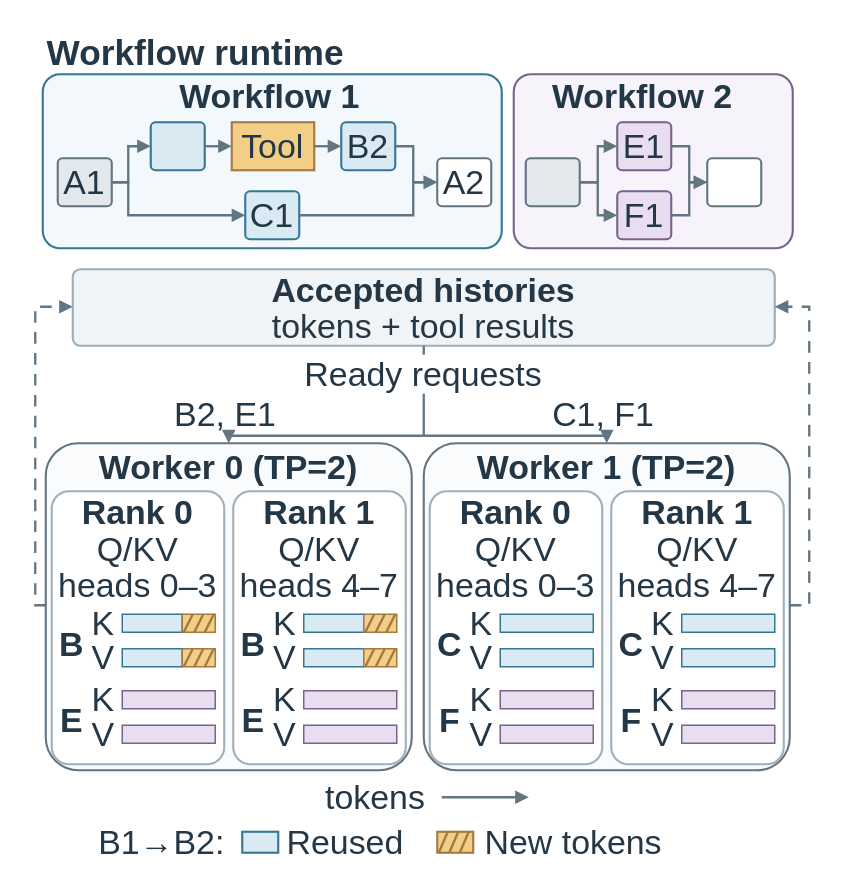
Image size: 848x891. Some labels were removed from this diagram. The centre of each missing label's shape, as x and y in pixels:
"B1" belongs at pixel 177 145.
"D1" belongs at pixel 552 181.
"D2" belongs at pixel 733 181.
